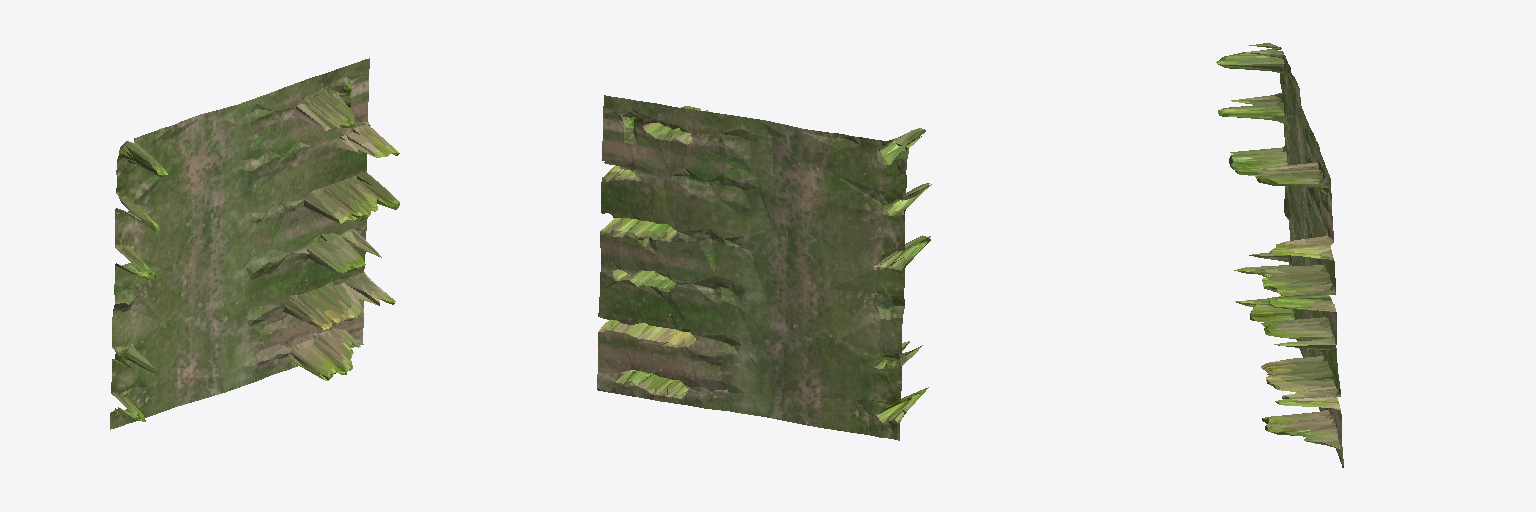
3 renders of one model, left to right at view 1: azimuth 30°, elevation 25°; view 2: azimuth 150°, elevation 25°; view 3: azimuth 270°, elevation 25°, orthographic.
Visible parts, largest first — view 1: grp1; view 2: grp1; view 3: grp1.
Part boxes in pixels (bbox=[...]): grp1: bbox=[110, 58, 399, 429]; grp1: bbox=[597, 95, 931, 440]; grp1: bbox=[1216, 43, 1343, 467].
Size of the model in its own units: 10 by 10 by 3.99.
Materials: 1 (1 with a texture image).